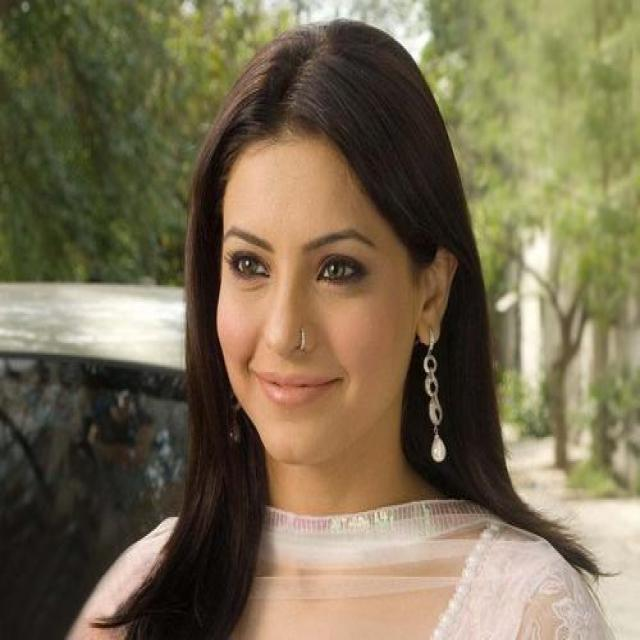live: (200, 137, 460, 464)
